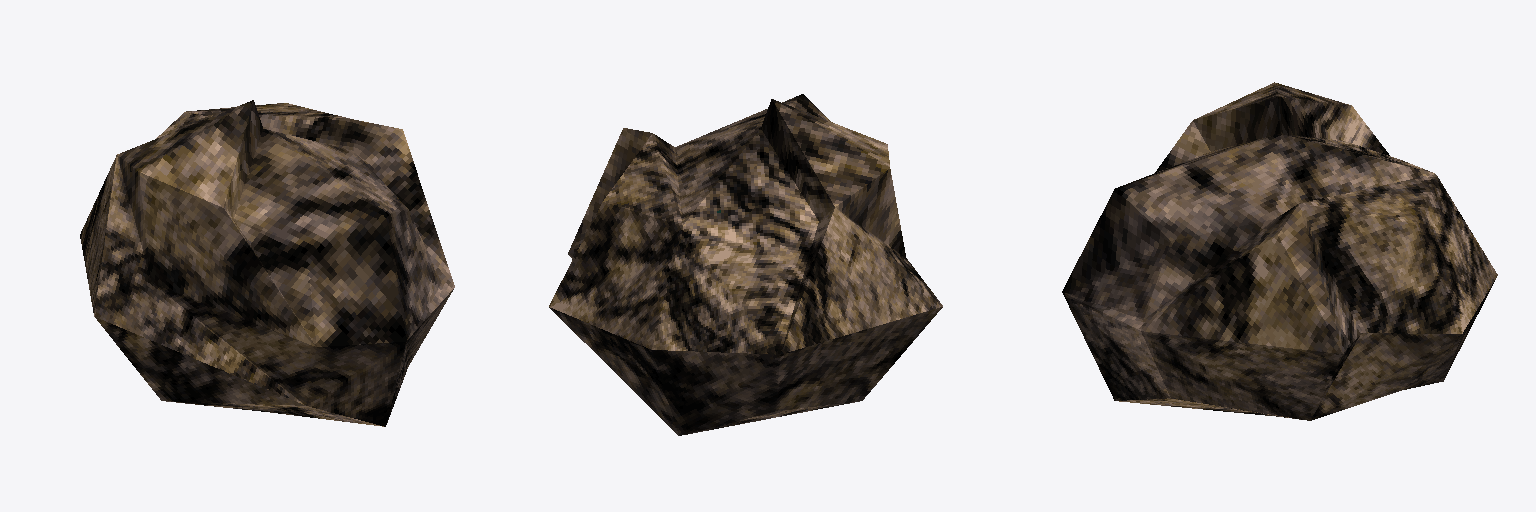
3 renders of one model, left to right at view 1: azimuth 30°, elevation 25°; view 2: azimuth 150°, elevation 25°; view 3: azimuth 270°, elevation 25°, orthographic.
Visible parts, largest first — view 1: cube1; view 2: cube1; view 3: cube1.
Boxes of the visible parts, box(x1,y1,x2,y2) form: cube1: box(80, 100, 454, 426); cube1: box(549, 94, 942, 435); cube1: box(1062, 82, 1497, 420).
Size of the model in its own units: 2.49 by 2.22 by 2.79.
Materials: 1 (1 with a texture image).